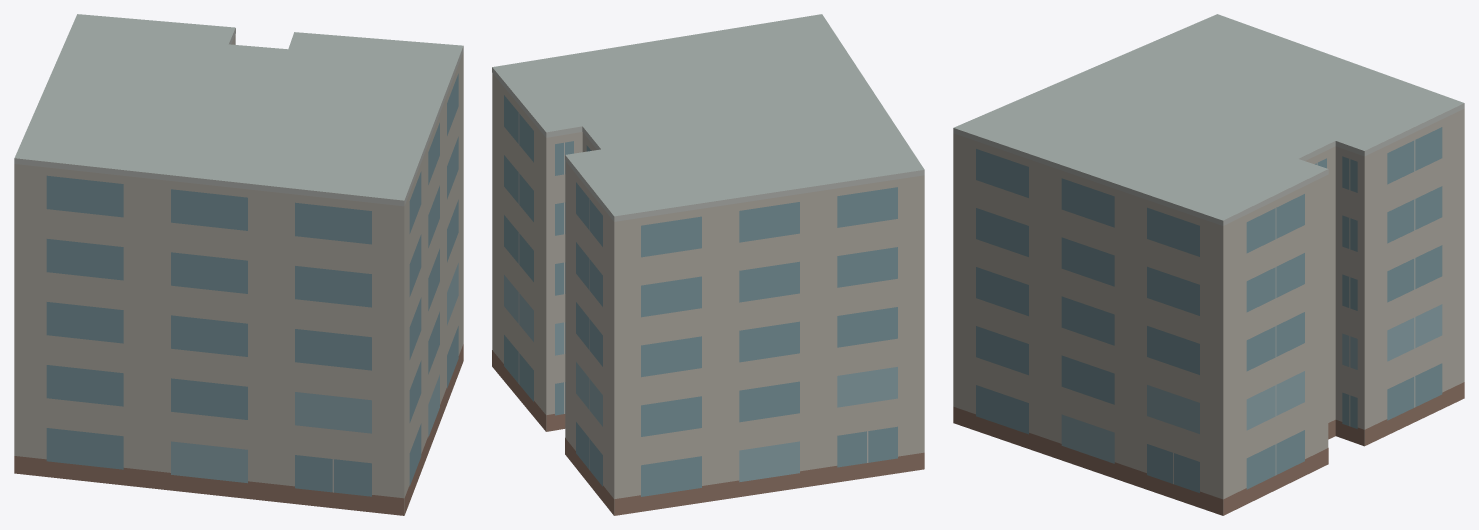
The model's file is survey-upis-32498678.glb.
The picture shows the model from 3 angles, left to right: view 1: azimuth 30°, elevation 25°; view 2: azimuth 150°, elevation 25°; view 3: azimuth 270°, elevation 25°; orthographic projection. The views are drawn at different scales.
Parts seen in each view (by area): view 1: survey-upis-32498678.tmp; view 2: survey-upis-32498678.tmp; view 3: survey-upis-32498678.tmp.
Boxes of the visible parts, x1,y1,x2,y2 form: survey-upis-32498678.tmp: (14, 14, 463, 515); survey-upis-32498678.tmp: (492, 14, 924, 515); survey-upis-32498678.tmp: (953, 14, 1464, 515).
Size of the model in its own units: 19.98 by 13.3 by 20.89.
